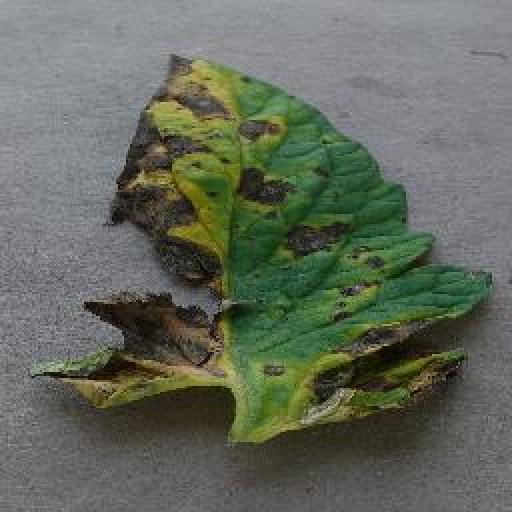Early Blight: (29, 51, 496, 449)
